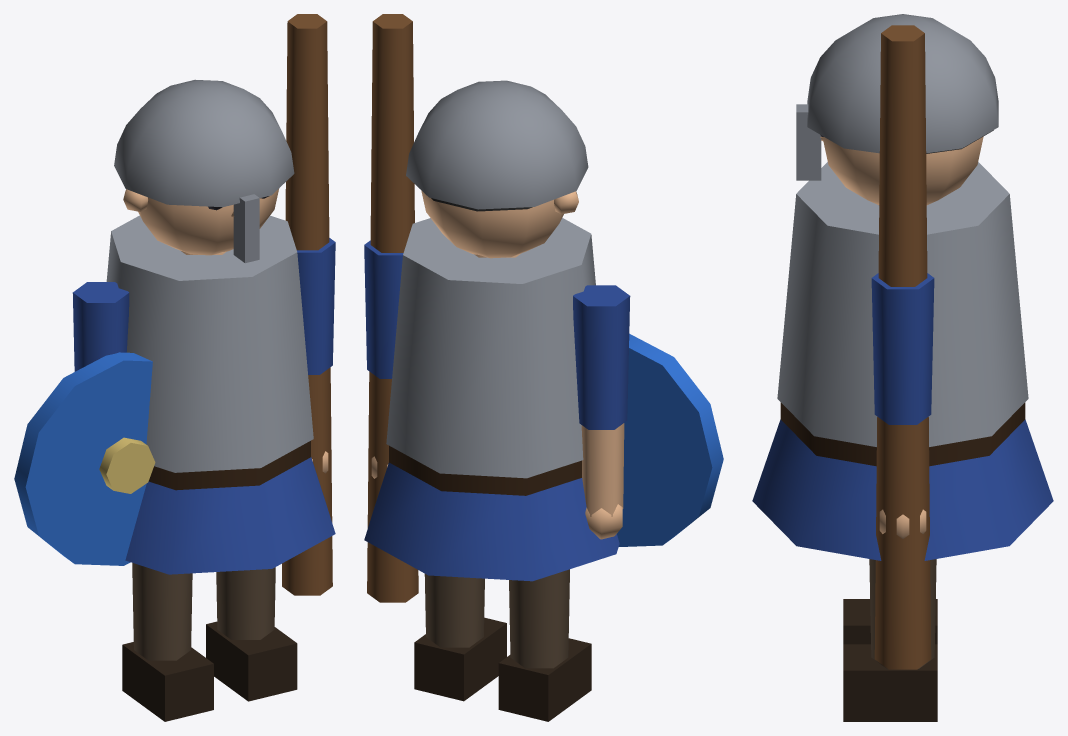
Rendered from w_waechter.glb.
The picture shows the model from 3 angles, left to right: view 1: azimuth 30°, elevation 25°; view 2: azimuth 150°, elevation 25°; view 3: azimuth 270°, elevation 25°; orthographic projection. The views are drawn at different scales.
Parts seen in each view (by area): view 1: worker, arm_l, arm_r, leg_l, leg_r; view 2: worker, arm_l, arm_r, leg_l, leg_r; view 3: worker, arm_r, leg_r, leg_l.
Part boxes in pixels (x1,y1,x2,y2): worker: [106, 79, 335, 574]; arm_l: [14, 282, 155, 565]; arm_r: [282, 14, 335, 595]; leg_l: [122, 563, 213, 721]; leg_r: [206, 567, 297, 701]; worker: [364, 80, 619, 581]; arm_l: [573, 285, 723, 546]; arm_r: [364, 14, 418, 602]; leg_l: [498, 569, 591, 721]; leg_r: [414, 574, 506, 701]; worker: [752, 14, 1053, 560]; arm_r: [871, 25, 934, 669]; leg_r: [843, 559, 937, 721]; leg_l: [843, 599, 937, 644].
Bounding box in the file's own units: 0.5306 × 0.996 × 0.384.
